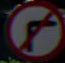Don't turn right: (8, 6, 55, 50)
